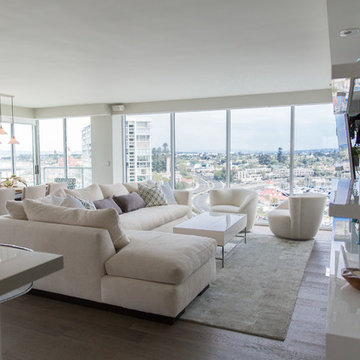chair: (267, 190, 327, 241), (204, 184, 258, 235)
sofa: (0, 180, 217, 321)
table: (172, 212, 248, 268)
